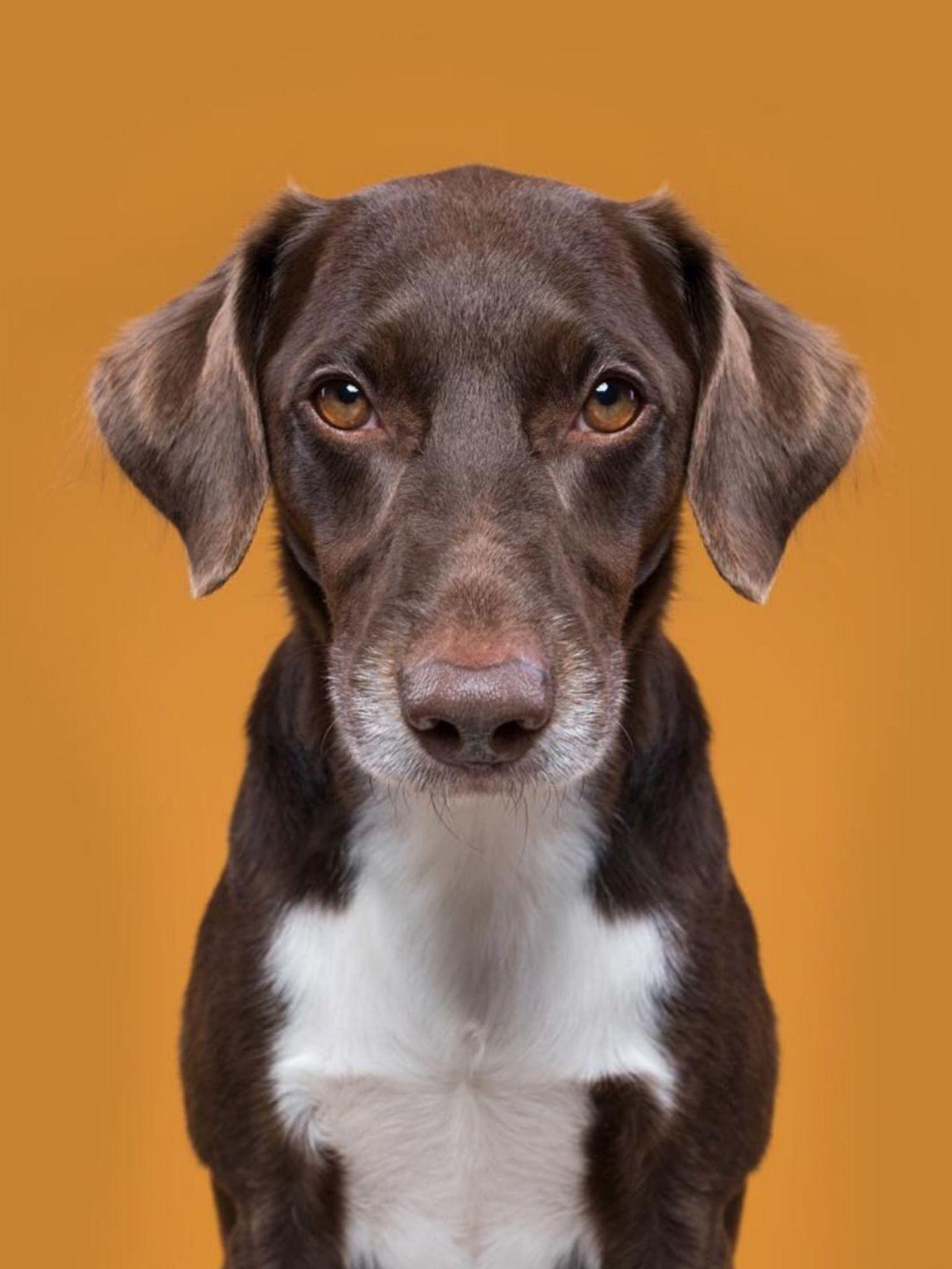adult_dog: (85, 165, 876, 1269)
